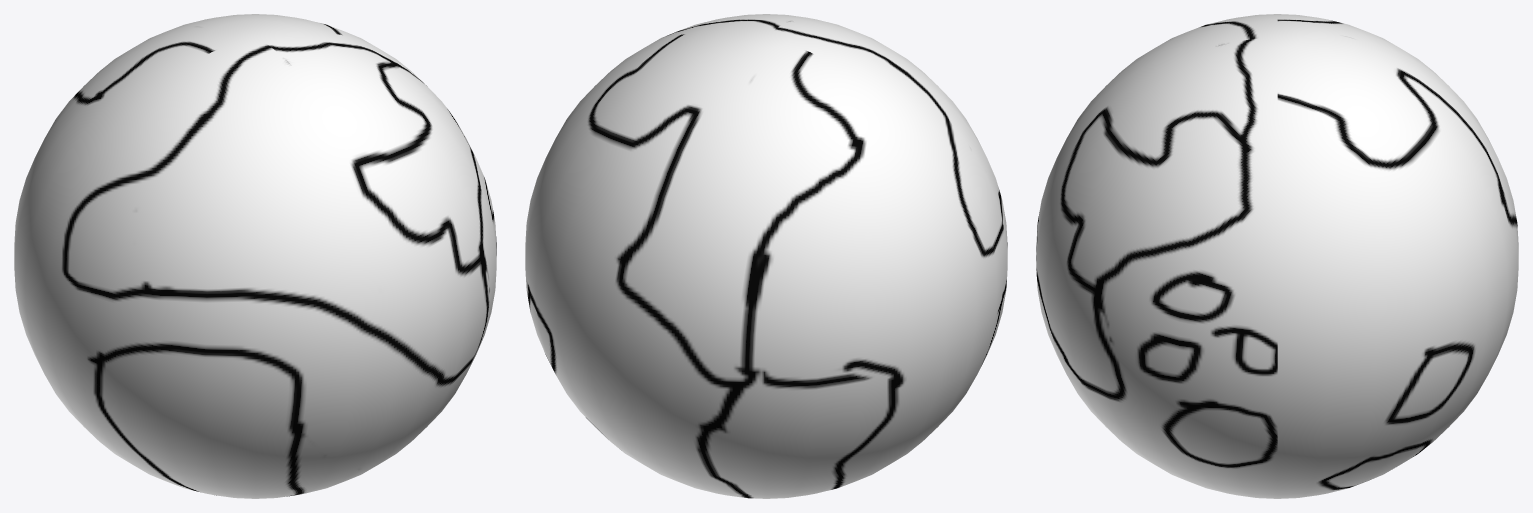
The model's file is Earth.fbx.
3 renders of one model, left to right at view 1: azimuth 30°, elevation 25°; view 2: azimuth 150°, elevation 25°; view 3: azimuth 270°, elevation 25°, orthographic.
Visible parts, largest first — view 1: pSphere1; view 2: pSphere1; view 3: pSphere1.
Part boxes in pixels (box(x1,y1,x2,y2)): pSphere1: box(14, 14, 496, 498); pSphere1: box(525, 14, 1007, 498); pSphere1: box(1036, 14, 1518, 498).
Bounding box in the file's own units: 2 × 2 × 1.99.
